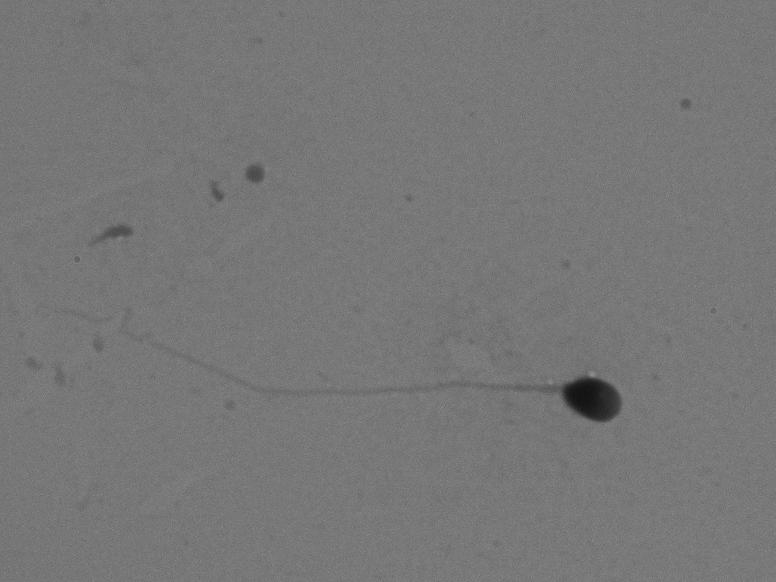Normal: (35, 283, 639, 436)
